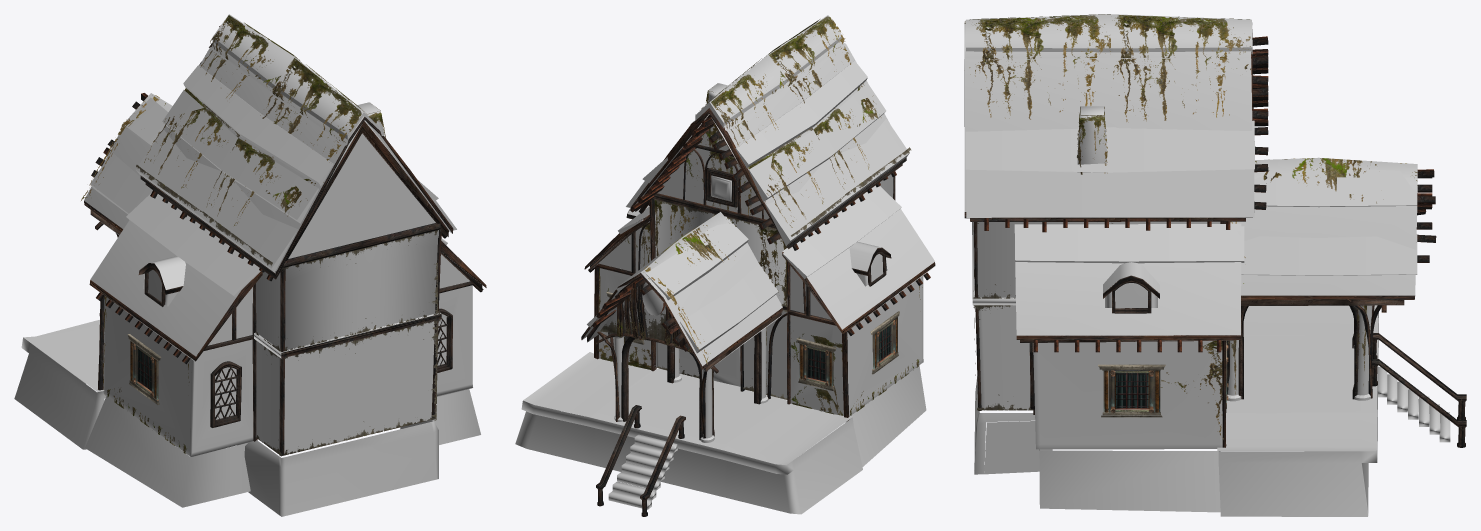
The model's file is VillaVelnia_Textfbx.fbx.
3 views of the same model, side by side, from view 1: azimuth 30°, elevation 25°; view 2: azimuth 150°, elevation 25°; view 3: azimuth 270°, elevation 25° (orthographic). The views are drawn at different scales.
Visible parts, largest first — view 1: O_House, O_Decals2, O_Floor2; view 2: O_House, O_Decals2, O_Floor2; view 3: O_House, O_Decals2, O_Floor2.
Boxes of the visible parts, x1,y1,x2,y2 form: O_House: (84, 42, 486, 456); O_Decals2: (81, 14, 483, 455); O_Floor2: (14, 320, 480, 516); O_House: (581, 41, 935, 516); O_Decals2: (587, 15, 930, 415); O_Floor2: (515, 352, 926, 514); O_House: (964, 23, 1466, 449); O_Decals2: (964, 14, 1436, 439); O_Floor2: (974, 305, 1378, 516).
Size of the model in its own units: 967 by 1122 by 1218.
